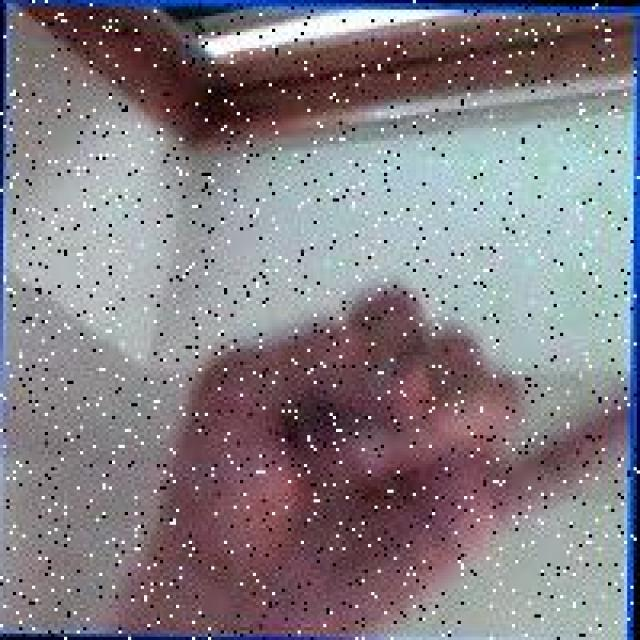J: (139, 226, 632, 616)
